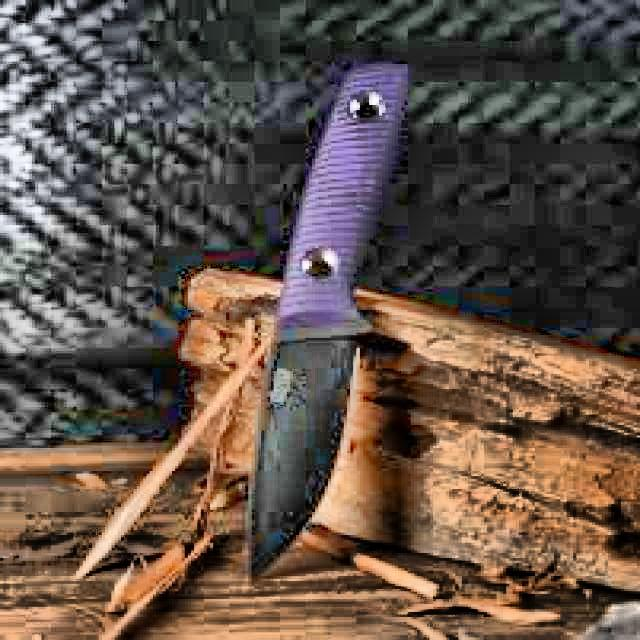knife: (232, 68, 416, 578)
